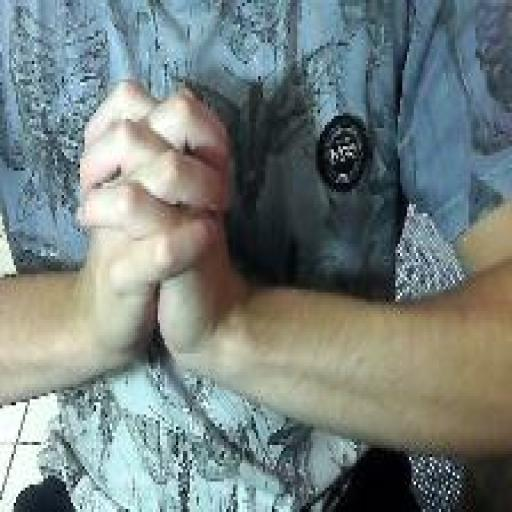Mi -snake-: (73, 76, 236, 369)
